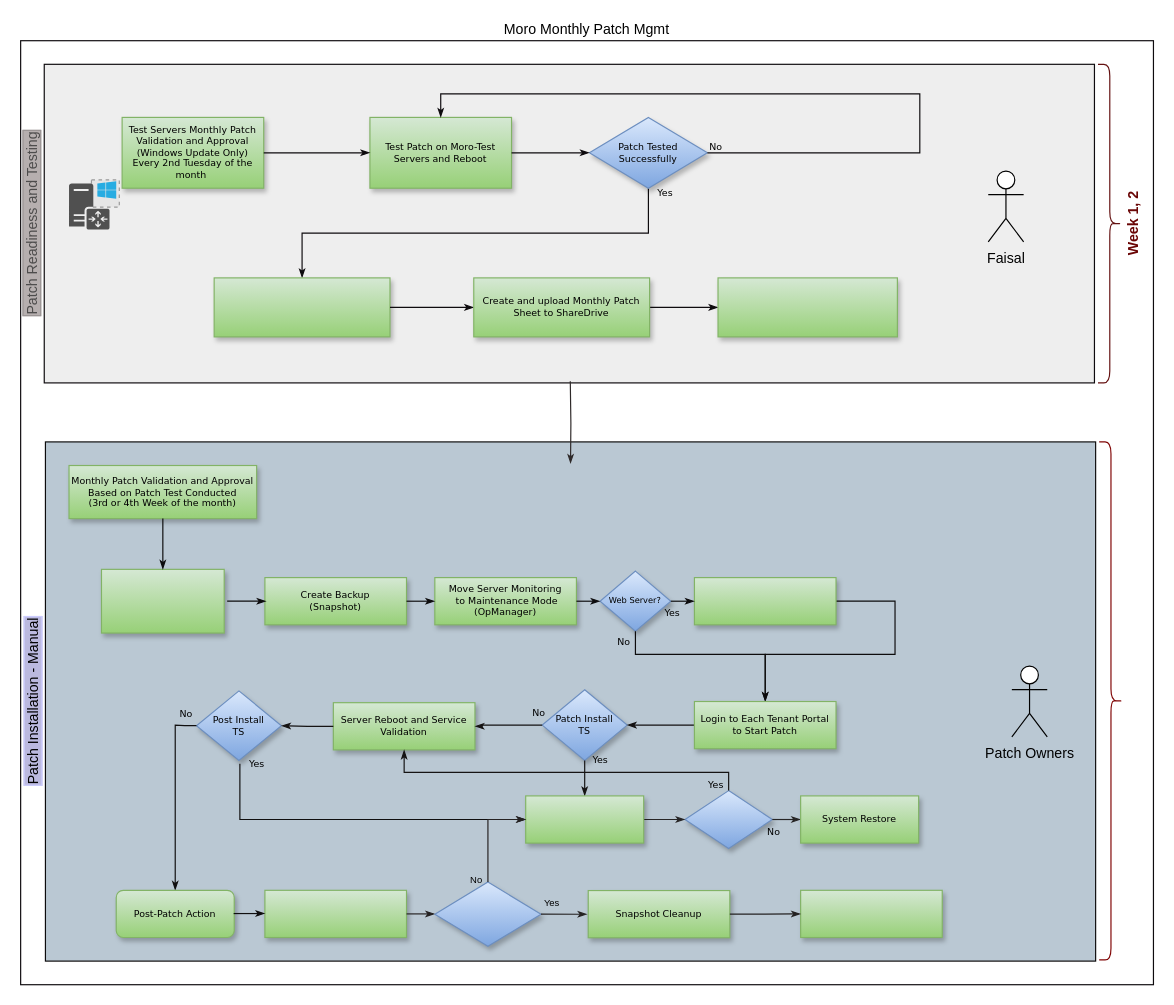
The diagram is 1174 pixels wide and 1005 high, and some of its shapes have lost their labels. Grey dashed boxes stand in for pictures. The shapes that lost their labels are listed below. From the top down, each one's centre as x and y in pixels, then its label:
At pixel 302 308: "Creation of CR for Moro, Subsidiaries & Customers Servers".
At pixel 808 308: "Inform Patch Owners Start Patch Cycle".
At pixel 163 602: "Start Monthly Patch Cycle By Patch Owners".
At pixel 766 602: "Move Server Web URL to Maintenance Mode (Site24x7)".
At pixel 1110 700: "Week 2, 3 & 4".
At pixel 585 820: "Fix Action".
At pixel 729 821: "Fix Action Success".
At pixel 336 915: "Move Server Monitoring from Maintenance Mode (OpManager & Site24x7)".
At pixel 488 915: "App Owner Validation Success".
At pixel 872 915: "Inventory Update".
